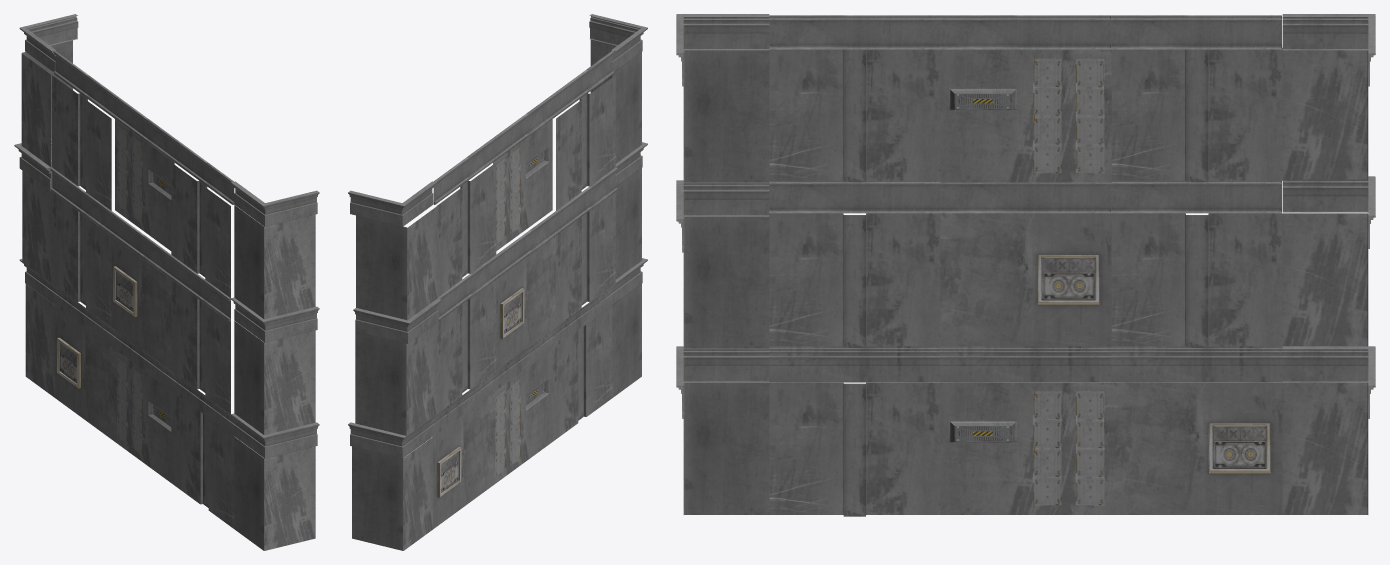
Rendered from SM_Elevator_Building_Second_Floor.fbx.
3 renders of one model, left to right at view 1: azimuth 30°, elevation 25°; view 2: azimuth 150°, elevation 25°; view 3: azimuth 270°, elevation 25°, orthographic. The views are drawn at different scales.
Parts seen in each view (by area): view 1: SM_Elevator_Building_Second_Floor_LOD0; view 2: SM_Elevator_Building_Second_Floor_LOD0; view 3: SM_Elevator_Building_Second_Floor_LOD0.
Boxes of the visible parts, box(x1,y1,x2,y2) form: SM_Elevator_Building_Second_Floor_LOD0: box(14, 14, 319, 550); SM_Elevator_Building_Second_Floor_LOD0: box(348, 14, 647, 550); SM_Elevator_Building_Second_Floor_LOD0: box(676, 14, 1375, 516).
Bounding box in the file's own units: 208 × 1430 × 1125.
Materials: 1 (1 with a texture image).
